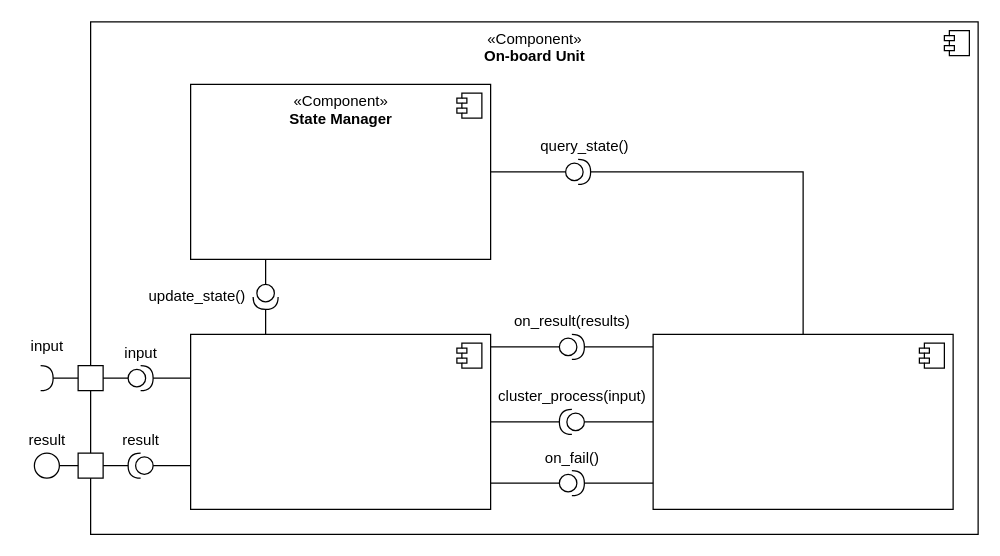
The diagram is 1000 pixels wide and 556 high, and some of its shapes have lost their labels. The shapes that lost their labels are listed below. From the top down, each one's centre as x and y in pixels, then its label:
point (340, 421): «Component» Input Processing
point (802, 421): «Component» Consensus
